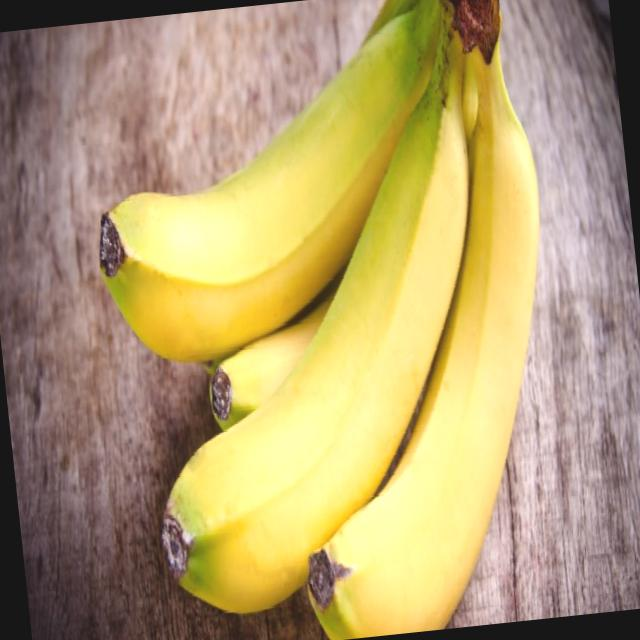banana: (116, 42, 520, 604), (254, 102, 593, 640), (74, 0, 479, 369)
